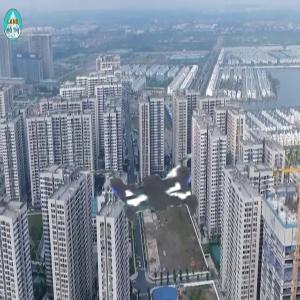drone: (48, 80, 262, 294)
